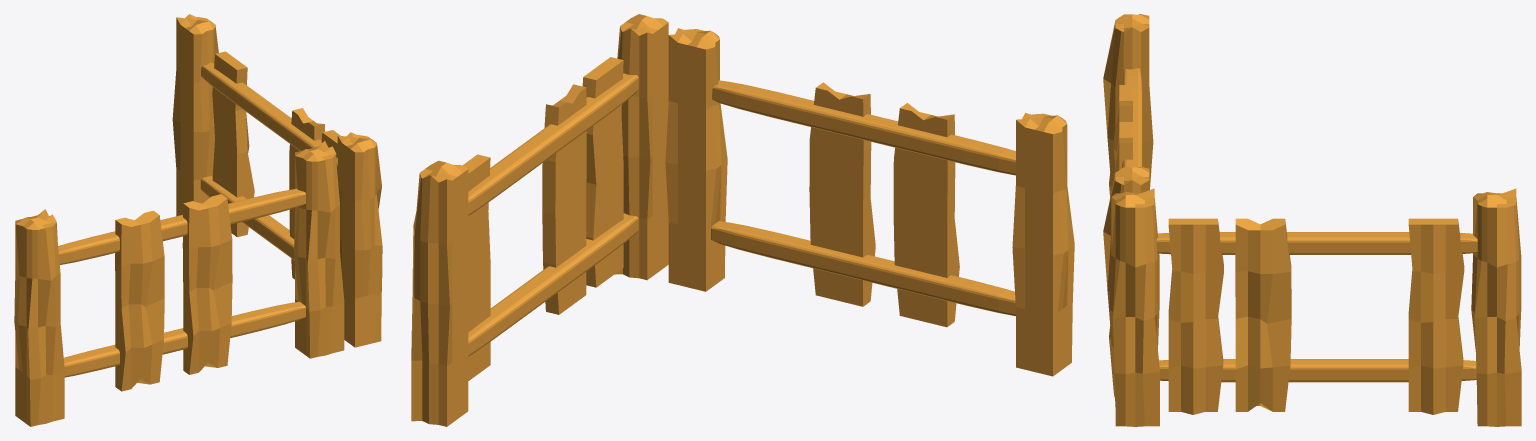
The model's file is FenchMiddle.fbx.
3 renders of one model, left to right at view 1: azimuth 30°, elevation 25°; view 2: azimuth 150°, elevation 25°; view 3: azimuth 270°, elevation 25°, orthographic. The views are drawn at different scales.
Visible parts, largest first — view 1: Cube, Cube.001, Cube.008, Cube.006, Cube.007, Cube.010, Cube.013, Cube.002, Cube.003, Cube.011, Cube.009, Cube.014; view 2: Cube, Cube.010, Cube.001, Cube.008, Cube.006, Cube.007, Cube.003, Cube.002, Cube.014, Cube.012, Cube.011, Cube.009 (+1 smaller); view 3: Cube.008, Cube.010, Cube.014, Cube.013, Cube.012, Cube, Cube.011, Cube.009, Cube.001, Cube.002, Cube.006, Cube.007.
Part boxes in pixels (x1=…): Cube: x1=14, y1=209, x2=64, y2=426; Cube.001: x1=294, y1=141, x2=344, y2=358; Cube.008: x1=337, y1=132, x2=382, y2=347; Cube.006: x1=115, y1=210, x2=164, y2=391; Cube.007: x1=182, y1=194, x2=232, y2=374; Cube.010: x1=172, y1=14, x2=218, y2=216; Cube.013: x1=212, y1=51, x2=254, y2=237; Cube.002: x1=58, y1=188, x2=305, y2=264; Cube.003: x1=63, y1=301, x2=305, y2=377; Cube.011: x1=201, y1=62, x2=337, y2=174; Cube.009: x1=200, y1=175, x2=294, y2=260; Cube.014: x1=289, y1=108, x2=324, y2=279; Cube: x1=1012, y1=113, x2=1074, y2=376; Cube.010: x1=411, y1=160, x2=468, y2=426; Cube.001: x1=665, y1=28, x2=727, y2=291; Cube.008: x1=614, y1=14, x2=668, y2=280; Cube.006: x1=893, y1=103, x2=959, y2=327; Cube.007: x1=809, y1=82, x2=875, y2=306; Cube.003: x1=711, y1=221, x2=1015, y2=315; Cube.002: x1=712, y1=80, x2=1015, y2=175; Cube.014: x1=542, y1=84, x2=586, y2=314; Cube.012: x1=582, y1=57, x2=623, y2=287; Cube.011: x1=468, y1=73, x2=638, y2=215; Cube.009: x1=468, y1=213, x2=638, y2=356; Cube.008: x1=1109, y1=188, x2=1159, y2=426; Cube.010: x1=1471, y1=188, x2=1521, y2=426; Cube.014: x1=1235, y1=218, x2=1291, y2=411; Cube.013: x1=1408, y1=218, x2=1464, y2=414; Cube.012: x1=1168, y1=218, x2=1223, y2=414; Cube: x1=1103, y1=14, x2=1153, y2=197; Cube.011: x1=1156, y1=232, x2=1477, y2=254; Cube.009: x1=1159, y1=359, x2=1476, y2=382; Cube.001: x1=1103, y1=167, x2=1149, y2=400; Cube.002: x1=1122, y1=68, x2=1142, y2=167; Cube.006: x1=1113, y1=85, x2=1132, y2=163; Cube.007: x1=1113, y1=122, x2=1132, y2=180.
Bounding box in the file's own units: 565 × 296 × 501.
